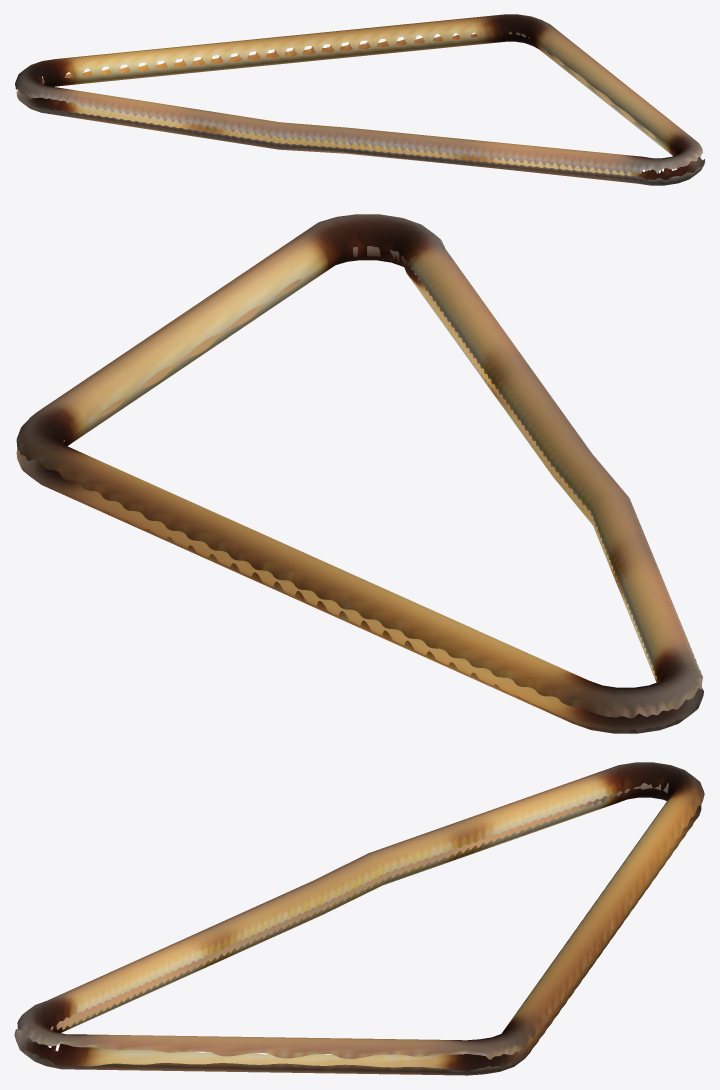
Rendered from lsling2.fbx.
3 renders of one model, top to bottom at view 1: azimuth 30°, elevation 25°; view 2: azimuth 150°, elevation 25°; view 3: azimuth 270°, elevation 25°, orthographic. The views are drawn at different scales.
Parts seen in each view (by area): view 1: lsling2; view 2: lsling2; view 3: lsling2.
Boxes of the visible parts, x1=… form: lsling2: x1=15, y1=14, x2=705, y2=185; lsling2: x1=16, y1=214, x2=703, y2=733; lsling2: x1=14, y1=762, x2=704, y2=1075.
Bounding box in the file's own units: 9.87 × 0.5054 × 9.87.
1 material, 1 textured.
